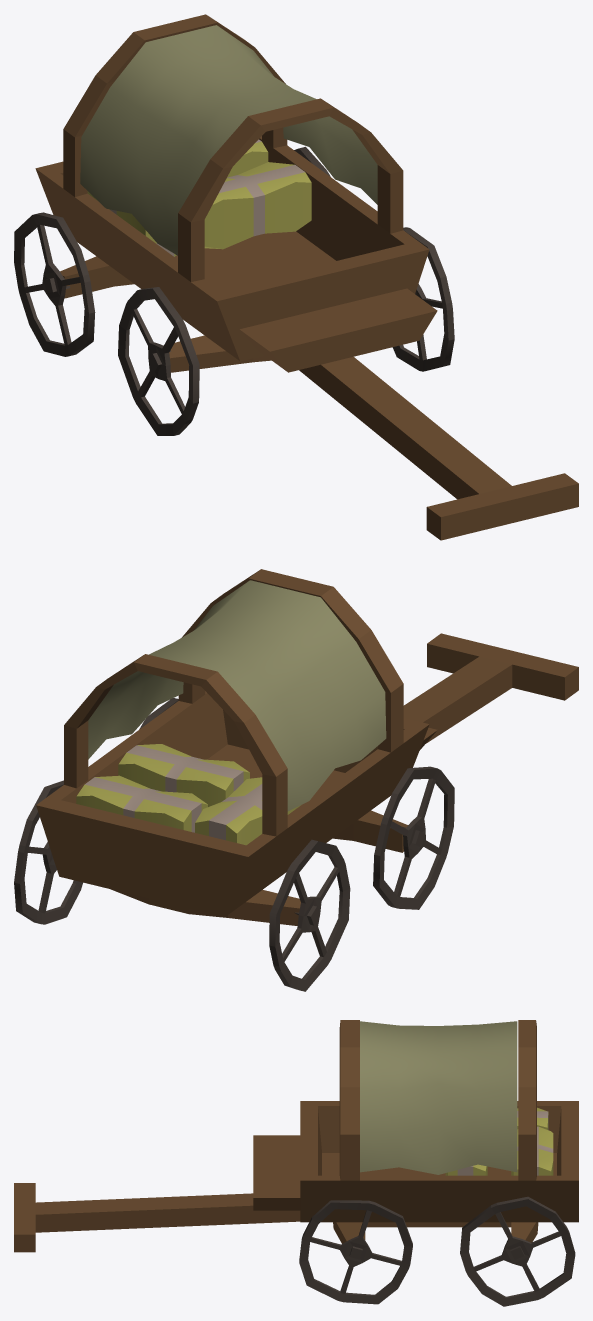
File: wagon.fbx
The picture shows the model from 3 angles, top to bottom: view 1: azimuth 30°, elevation 25°; view 2: azimuth 150°, elevation 25°; view 3: azimuth 270°, elevation 25°; orthographic projection. The views are drawn at different scales.
Visible parts, largest first — view 1: pCube9; view 2: pCube9; view 3: pCube9.
Boxes of the visible parts, bbox=[...] form: pCube9: bbox=[14, 14, 578, 540]; pCube9: bbox=[14, 569, 578, 991]; pCube9: bbox=[14, 1020, 578, 1306].
Size of the model in its own units: 4.24 by 4.46 by 10.13.
